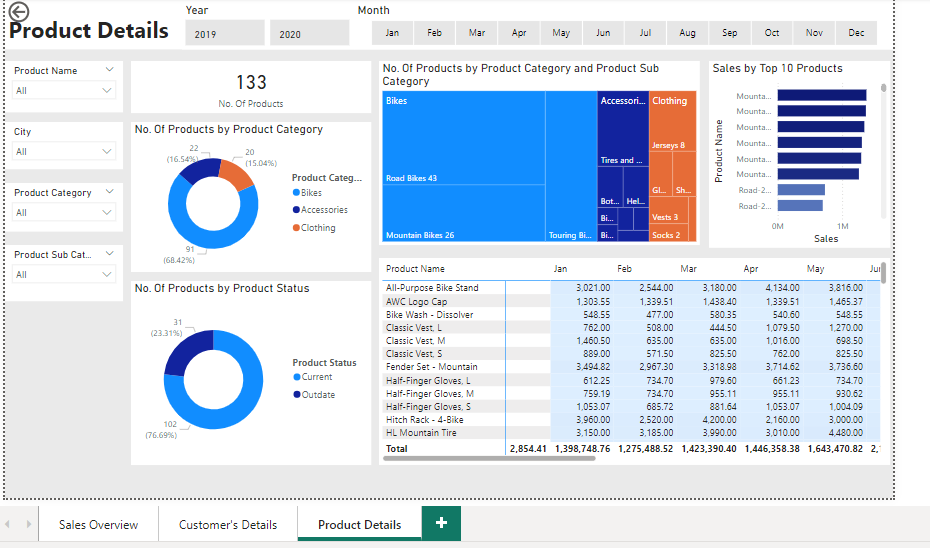

Layout of this report page (visuals, bound fields, positions):
{"tool":"powerbi","page":{"name":"Product Details","canvas":[1280,720],"ordinal":2},"visuals":[{"type":"textbox","box":[0,0,1279.7,73.9],"z":0},{"type":"slicer","fields":{"Values":["Dim_products.Product Name"]},"box":[0,90.6,169.6,73.9],"z":1000},{"type":"slicer","fields":{"Values":["Dim_customers.City"]},"box":[0,179,169.6,68.1],"z":2000},{"type":"slicer","fields":{"Values":["Dim_products.Product Category"]},"box":[0,266,169.6,69.6],"z":3000},{"type":"slicer","fields":{"Values":["Dim_products.Product Sub Category"]},"box":[0,355.8,169.6,81.2],"z":4000},{"type":"advancedSlicerVisual","fields":{"Values":["Dim_date.Year"]},"box":[255.1,7.2,247.8,66.7],"z":5000},{"type":"slicer","title":"Month","fields":{"Values":["Dim_date.MonthShort"]},"box":[502.9,7.2,776.8,66.7],"z":6000},{"type":"card","fields":{"Values":["Measures table.No. Of Products"]},"box":[181.4,90.7,345.6,74.9],"z":7000},{"type":"donutChart","fields":{"Category":["Dim_products.Product Category"],"Y":["Measures table.No. Of Products"]},"box":[181.4,178.6,345.6,216],"z":9000},{"type":"barChart","title":"Sales by Top 10 Products","fields":{"Y":["Measures table.Total_Sales"],"Category":["Dim_products.Product Name"]},"box":[1013.8,90.7,260.6,269.3],"z":10000},{"type":"donutChart","fields":{"Y":["Measures table.No. Of Products"],"Category":["Dim_products.Product Status"]},"box":[181.4,407.5,345.6,265],"z":12000},{"type":"pivotTable","fields":{"Columns":["Dim_date.MonthShort"],"Values":["Measures table.Sales"],"Rows":["Dim_products.Product Name"]},"box":[538.6,374.4,735.8,298.1],"z":13000},{"type":"actionButton","box":[0,0,100,40],"z":13002},{"type":"treemap","fields":{"Group":["Dim_products.Product Category"],"Details":["Dim_products.Product Sub Category"],"Values":["Measures table.No. Of Products"]},"box":[539.2,90.7,461.9,265.4],"z":13003}]}

Visuals, with their boxes on the page's 1280x720 design canvas (x1, y1, x2, y2). These are canvas units, not pixel positions in the 930x548 screenshot, which may show the page scaled, cropped or inside an application window:
textbox: <bbox>0, 0, 1280, 74</bbox>
slicer - Dim_products.Product Name: <bbox>0, 91, 170, 164</bbox>
slicer - Dim_customers.City: <bbox>0, 179, 170, 247</bbox>
slicer - Dim_products.Product Category: <bbox>0, 266, 170, 336</bbox>
slicer - Dim_products.Product Sub Category: <bbox>0, 356, 170, 437</bbox>
advancedSlicerVisual - Dim_date.Year: <bbox>255, 7, 503, 74</bbox>
"Month" slicer: <bbox>503, 7, 1280, 74</bbox>
card - Measures table.No. Of Products: <bbox>181, 91, 527, 166</bbox>
donutChart - Dim_products.Product Category x Measures table.No. Of Products: <bbox>181, 179, 527, 395</bbox>
"Sales by Top 10 Products" barChart: <bbox>1014, 91, 1274, 360</bbox>
donutChart - Measures table.No. Of Products x Dim_products.Product Status: <bbox>181, 408, 527, 672</bbox>
pivotTable - Dim_date.MonthShort x Measures table.Sales: <bbox>539, 374, 1274, 672</bbox>
actionButton: <bbox>0, 0, 100, 40</bbox>
treemap - Dim_products.Product Category x Dim_products.Product Sub Category: <bbox>539, 91, 1001, 356</bbox>
